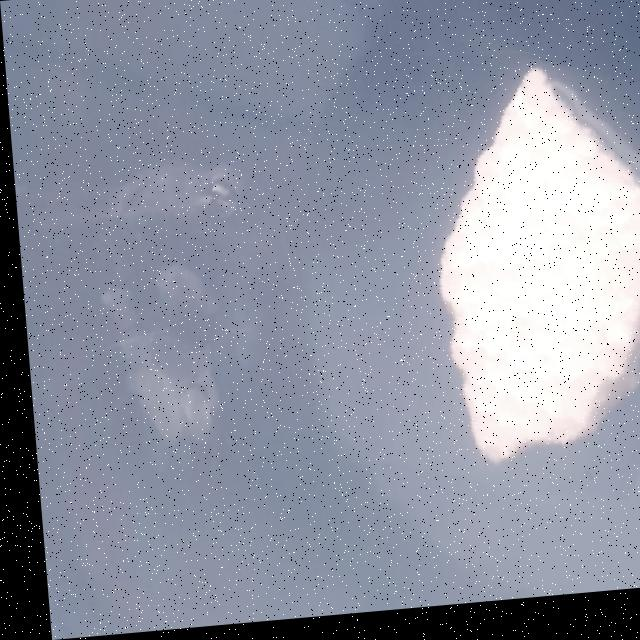litter: (365, 44, 640, 515)
